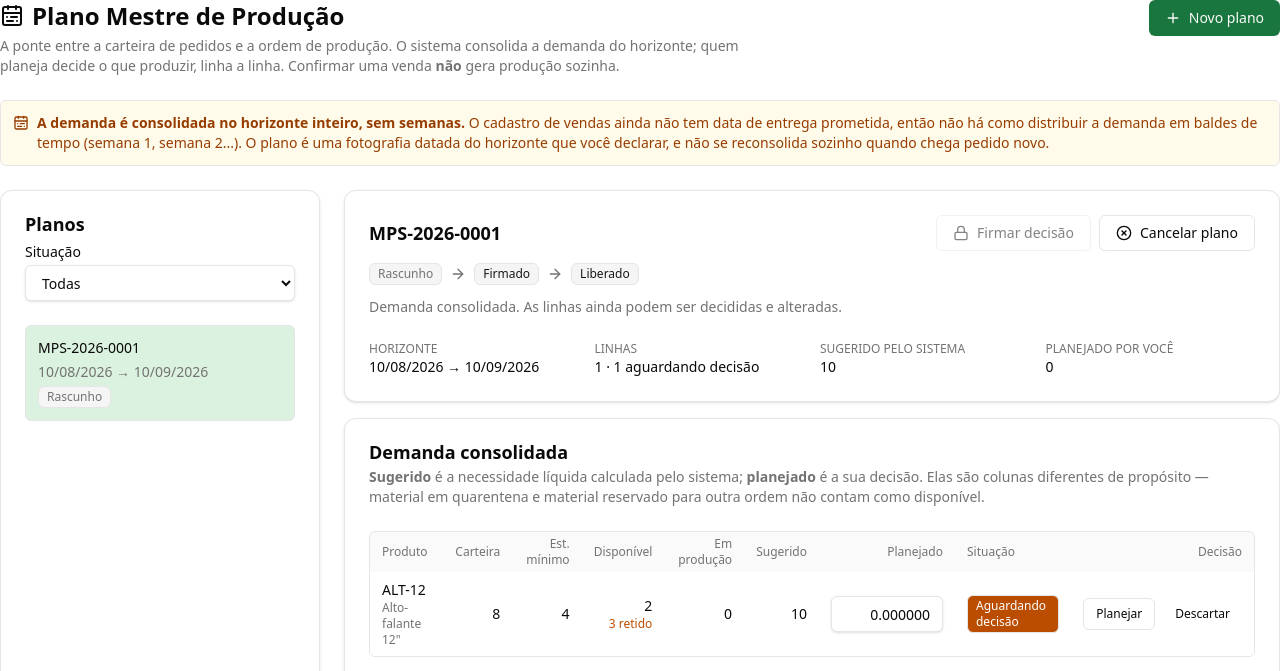
Test case: MasterProductionPlanPage › avisa quando um produto com demanda ficou de fora do plano
Click the button "Novo plano" at coordinates (1214, 18), box [1149, 0, 1279, 36]
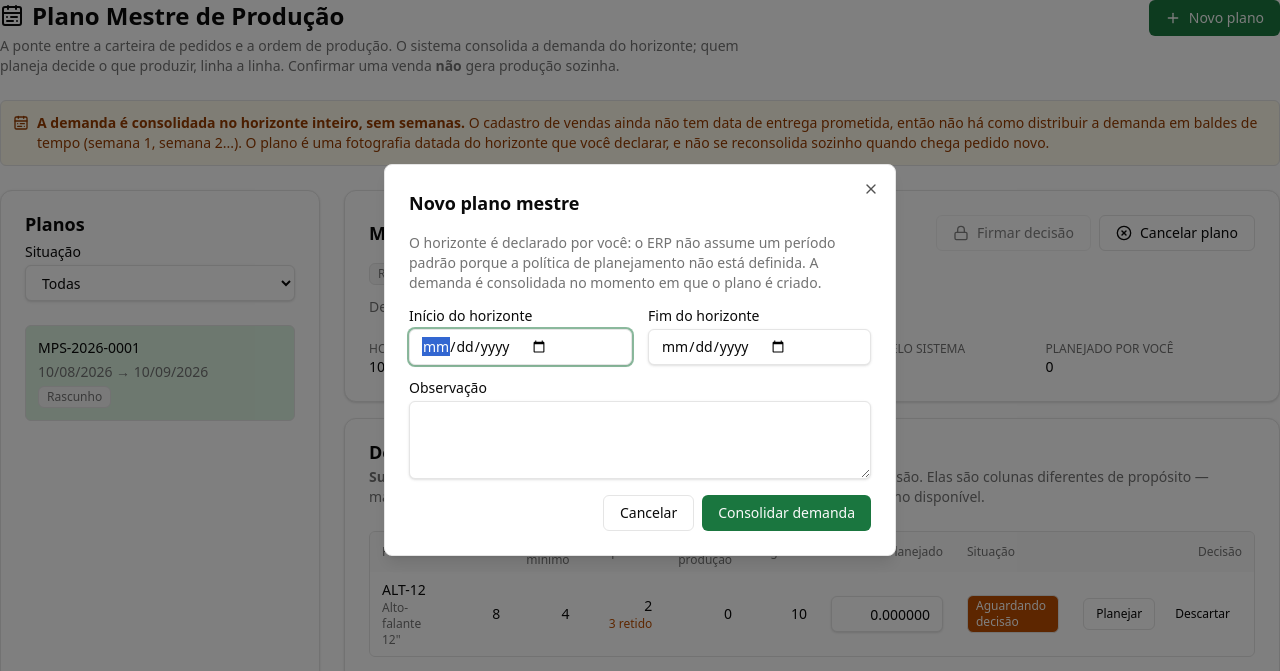
Type "2026-08-10" into the date field labelled "Início do horizonte" at coordinates (520, 347), box [409, 329, 632, 365]
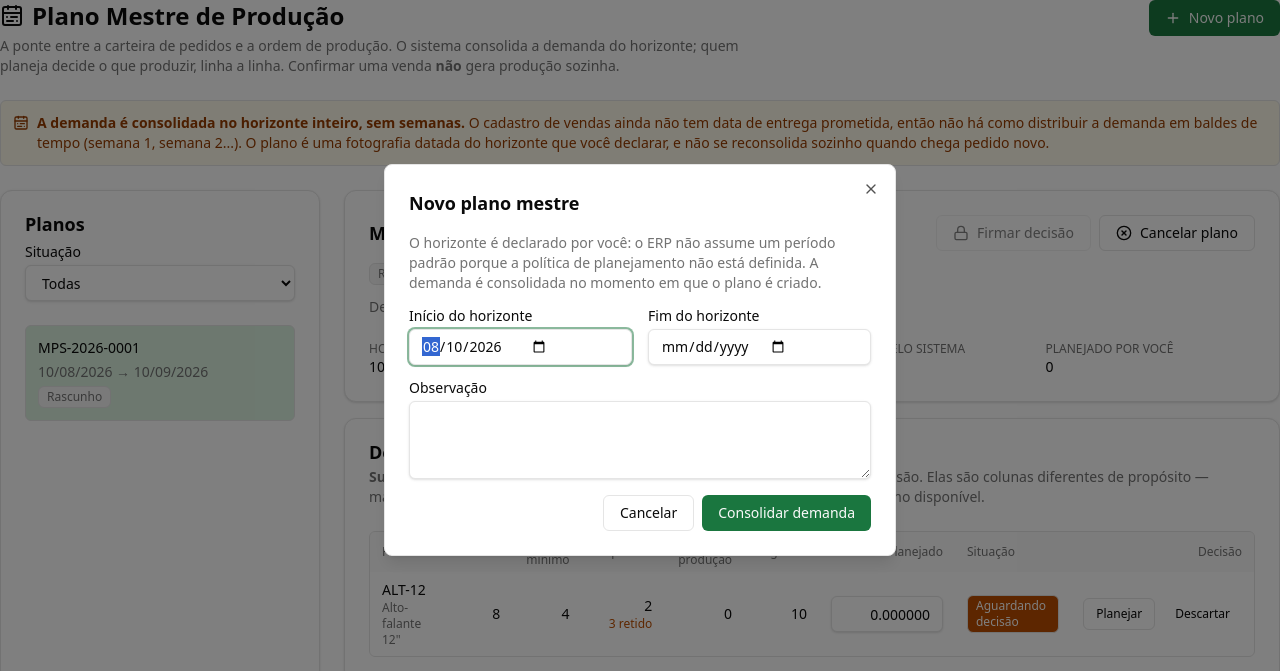
Type "2026-09-10" into the date field labelled "Fim do horizonte" at coordinates (760, 347), box [648, 329, 871, 365]
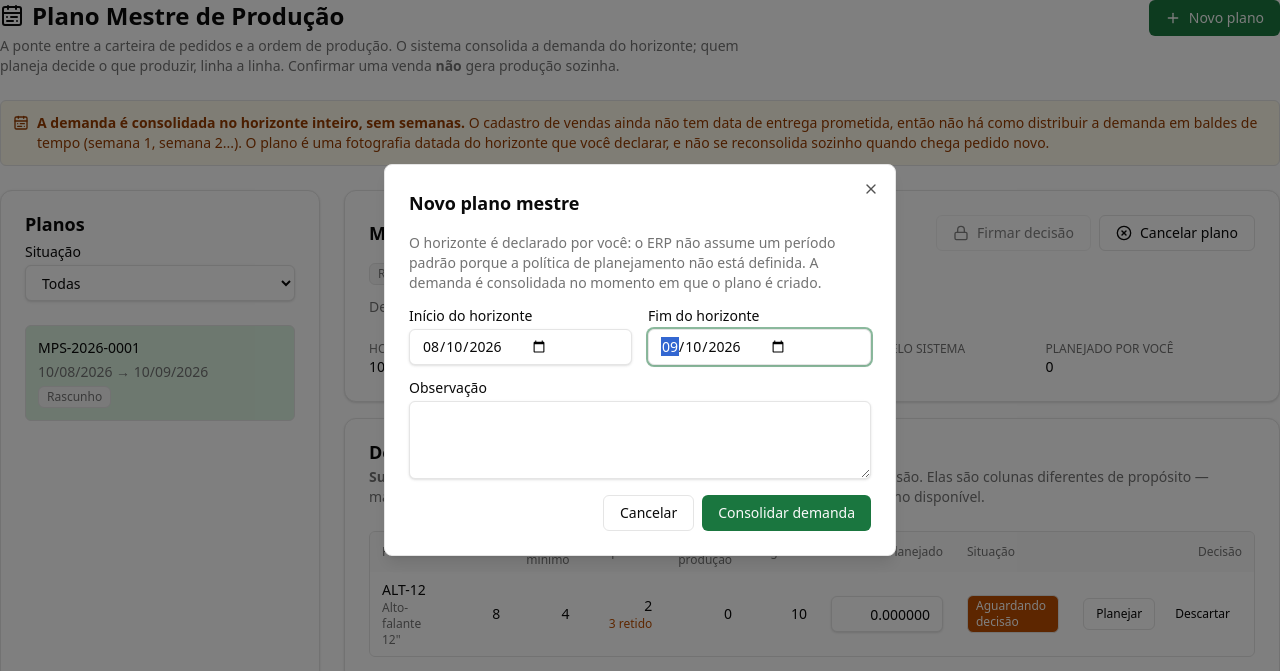
Click the button "Consolidar demanda" at coordinates (787, 513), box [702, 495, 871, 531]
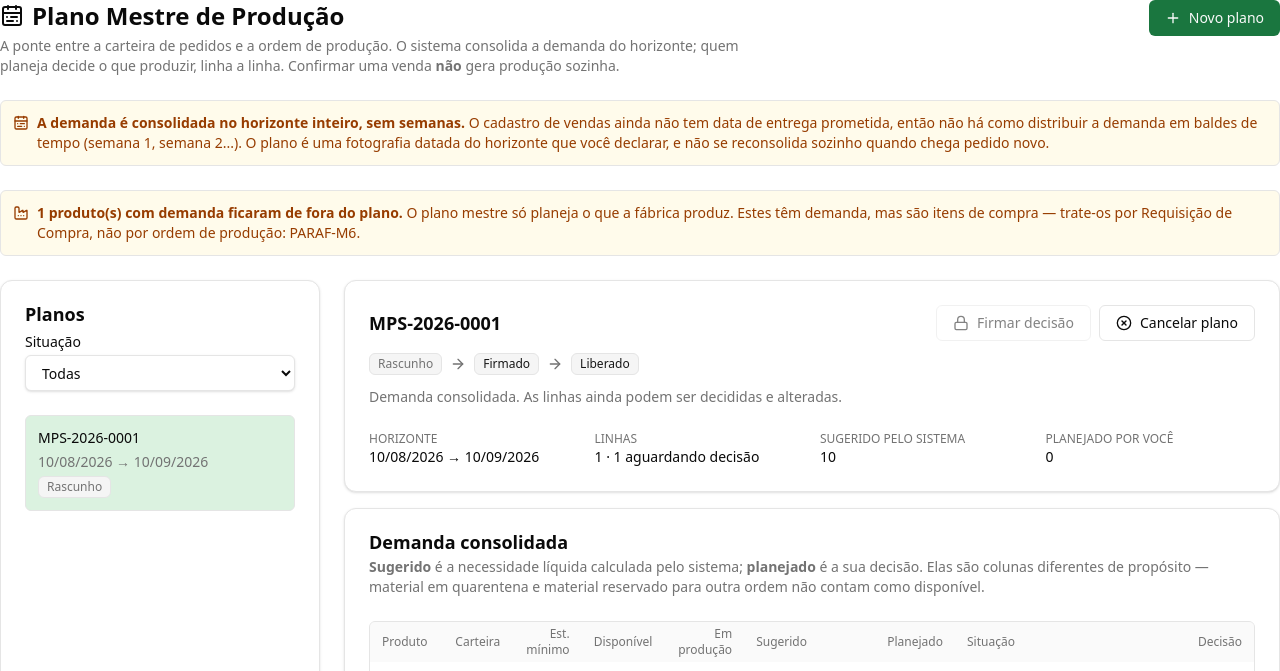
Check: the text "1 produto(s) com demanda ficaram de fora do plano." is shown, box [37, 203, 403, 222]
Check: the text "PARAF-M6" is shown, box [290, 223, 356, 242]
